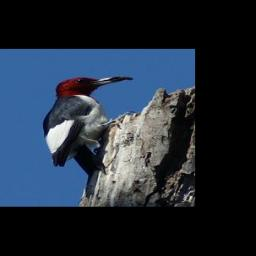Woodpecker: (42, 75, 133, 199)
